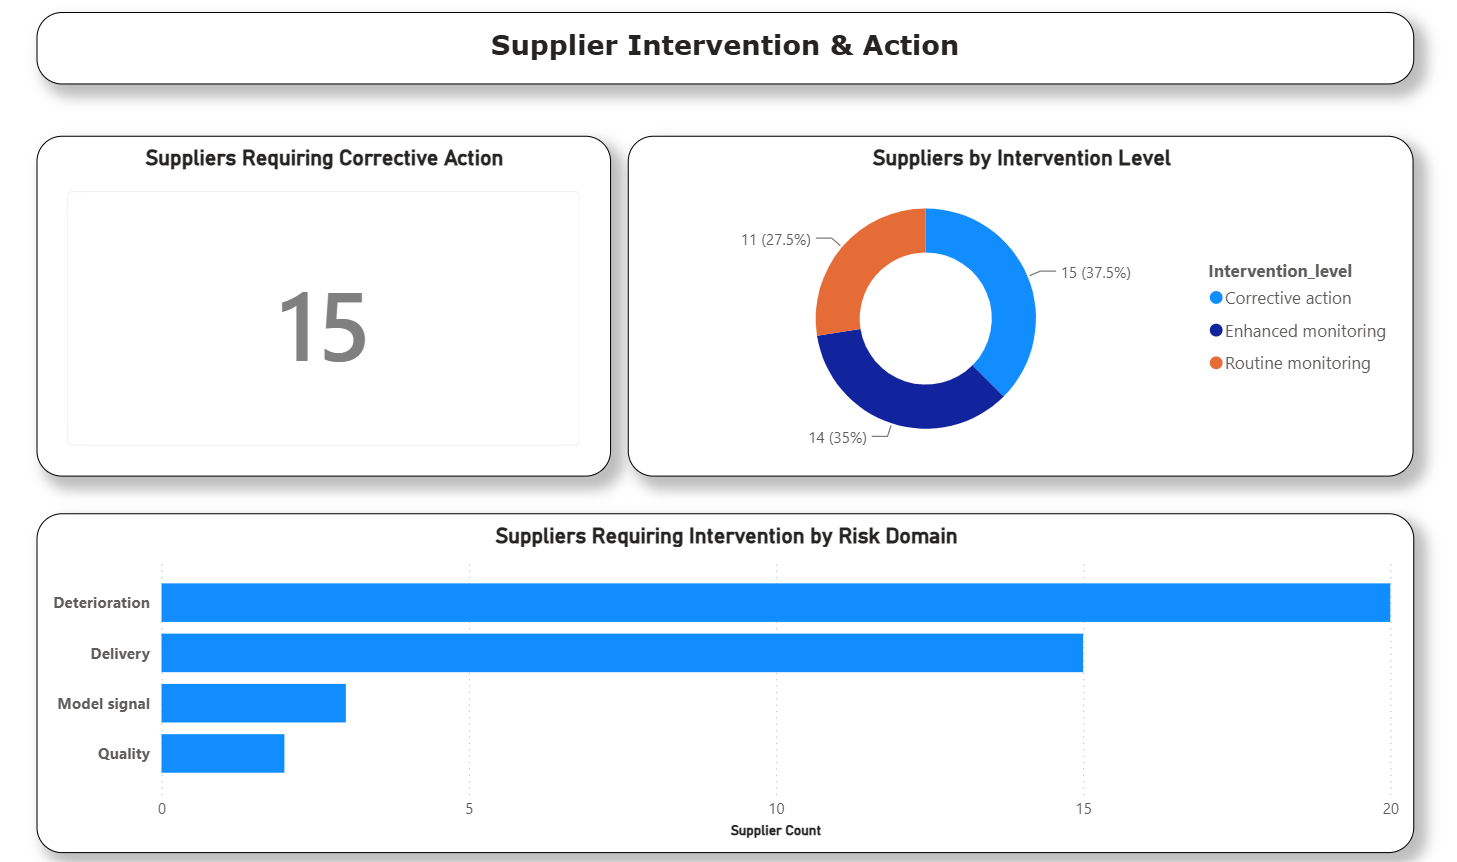

The page's visual inventory and layout, read from the dashboard file:
{"tool":"powerbi","page":{"name":"Intervention_Analysis","canvas":[1280,720],"ordinal":3},"visuals":[{"type":"textbox","box":[103.5,19.8,1080.2,57],"z":0},{"type":"cardVisual","title":"Suppliers Requiring Corrective Action","fields":{"Data":["Count(supplier_dashboard.supplier_id)"]},"box":[103.5,116.3,450,267.4],"z":1000},{"type":"donutChart","title":"Suppliers by Intervention Level","fields":{"Category":["supplier_dashboard.intervention_level"],"Y":["Count(supplier_dashboard.supplier_id)"]},"box":[567.4,116.3,616.3,267.4],"z":2000},{"type":"clusteredBarChart","title":"Suppliers Requiring Intervention by Risk Domain","fields":{"Category":["supplier_dashboard_corrected.primary_risk_domain"],"Y":["CountNonNull(supplier_dashboard_corrected.supplier_id)"]},"box":[103.5,412.8,1080.2,266.3],"z":3000}]}

Visuals, with their boxes on the page's 1280x720 design canvas (x1, y1, x2, y2). These are canvas units, not pixel positions in the 1457x862 screenshot, which may show the page scaled, cropped or inside an application window:
textbox: l=104, t=20, r=1184, b=77
"Suppliers Requiring Corrective Action" cardVisual: l=104, t=116, r=554, b=384
"Suppliers by Intervention Level" donutChart: l=567, t=116, r=1184, b=384
"Suppliers Requiring Intervention by Risk Domain" clusteredBarChart: l=104, t=413, r=1184, b=679
